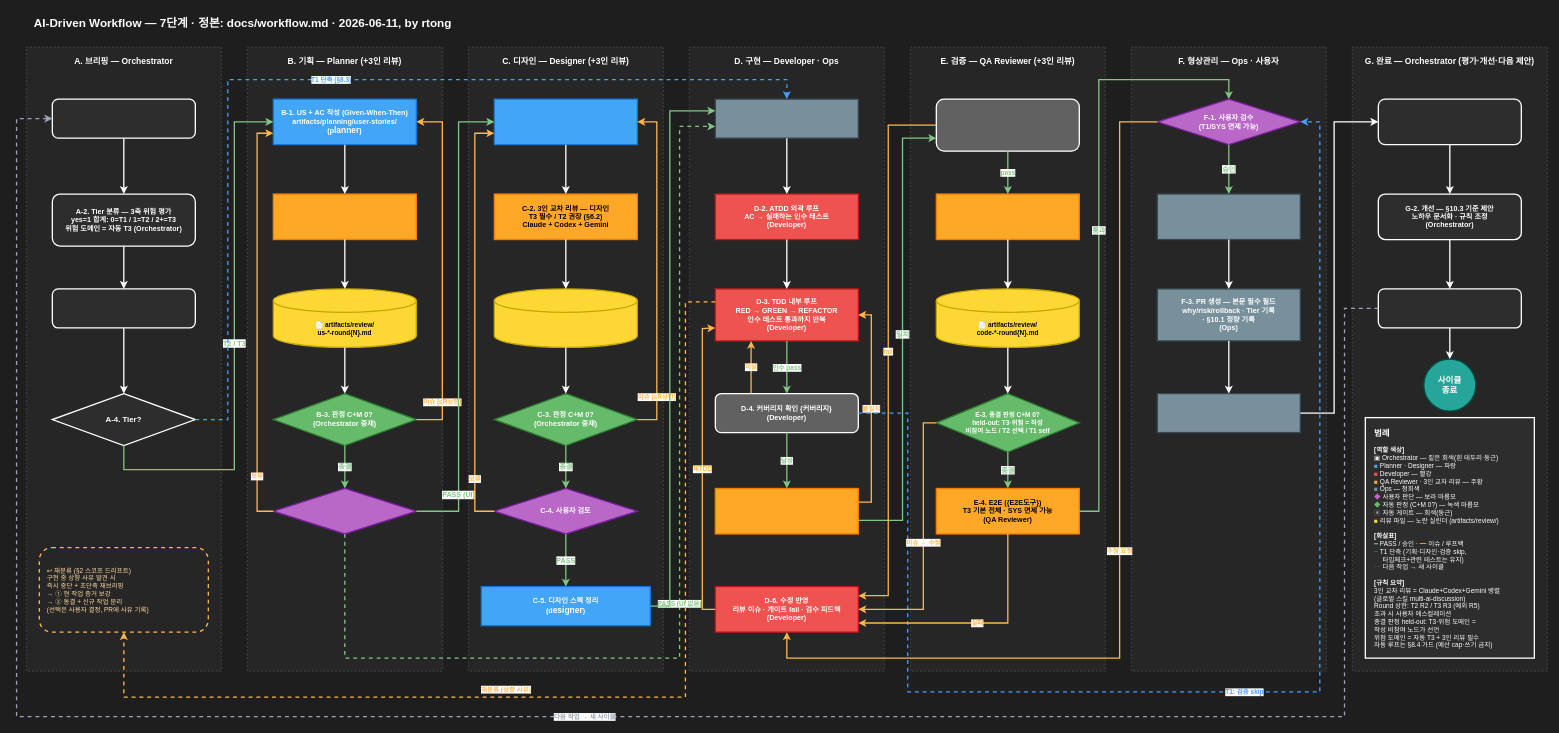
Image size: 1559x733. Some labels were removed from this diagram. The centre of each missing label's shape, as x and y in pixels:
"A-1. 브리핑 작업 범위·접근·예상 변경 (Orchestrator)" belongs at point (123, 118).
"A-3. 일정 산정 AI 작업 / 사용자 검토 / 버퍼 표기 (Orchestrator)" belongs at point (123, 308).
"B-2. 3인 교차 리뷰 — US/AC T2·T3 필수 (§6.2) Claude + Codex + Gemini (병렬)" belongs at point (344, 216).
"B-4. 사용자 검토 summary 1쪽" belongs at point (344, 511).
"C-1. 디자인 작성 ({디자인도구}) artifacts/planning/design/* + 매핑 (d esigner )" belongs at point (565, 121).
"D-1. 브랜치 생성 feature/* (Ops)" belongs at point (786, 118).
"D-5. 디자인 대조 (UI 시) {디자인도구} vs {실행환경} (QA Reviewer)" belongs at point (786, 511).
"E-1. 품질 게이트 (§5) {타입체크} · {단위테스트} · {린트} · 인수 테스트 pass (ATDD) (자동 게이트)" belongs at point (1007, 124).
"E-2. 코드 리뷰 — 3인 교차 T2: R1 / T3: R1~R3 (§6) QA Reviewer + Codex + Gemini" belongs at point (1007, 216).
"F-2. todo spine 갱신 status · 다음 행동 · 증거 · 되돌릴 커밋 (Ops)" belongs at point (1228, 216).
"F-4. merge gh pr merge --merge (rebase 금지) (Ops)" belongs at point (1228, 413).
"G-1. 평가 — §10.1 지표 확정 Tier · 라운드 수 · first-pass · 활성 시간 (Orchestrator)" belongs at point (1449, 121).
"G-3. 다음 작업 제안 todo spine 기반 (Orchestrator)" belongs at point (1449, 308).
"📄 artifacts/review/ design-*-round{N}.md" belongs at point (565, 318).
